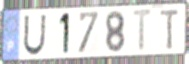1: (57, 11, 71, 57)
7: (78, 11, 101, 56)
8: (104, 9, 127, 55)
T: (131, 8, 155, 54), (159, 7, 180, 51)
U: (22, 13, 48, 57)
